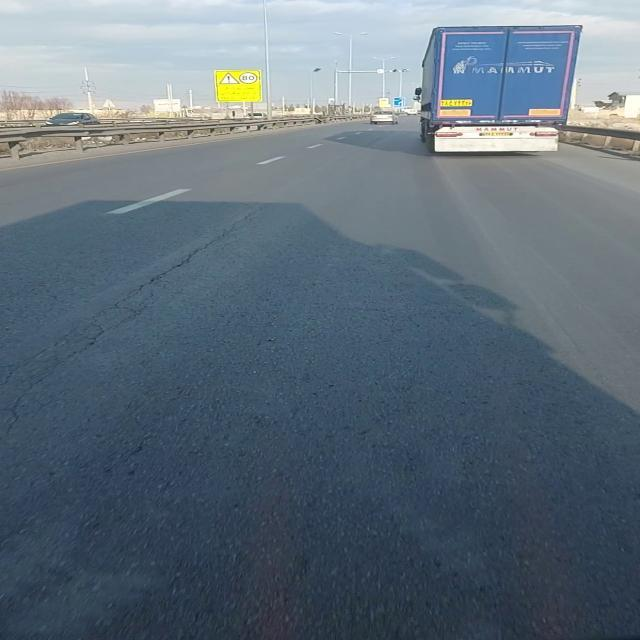Truck: (413, 22, 584, 157)
